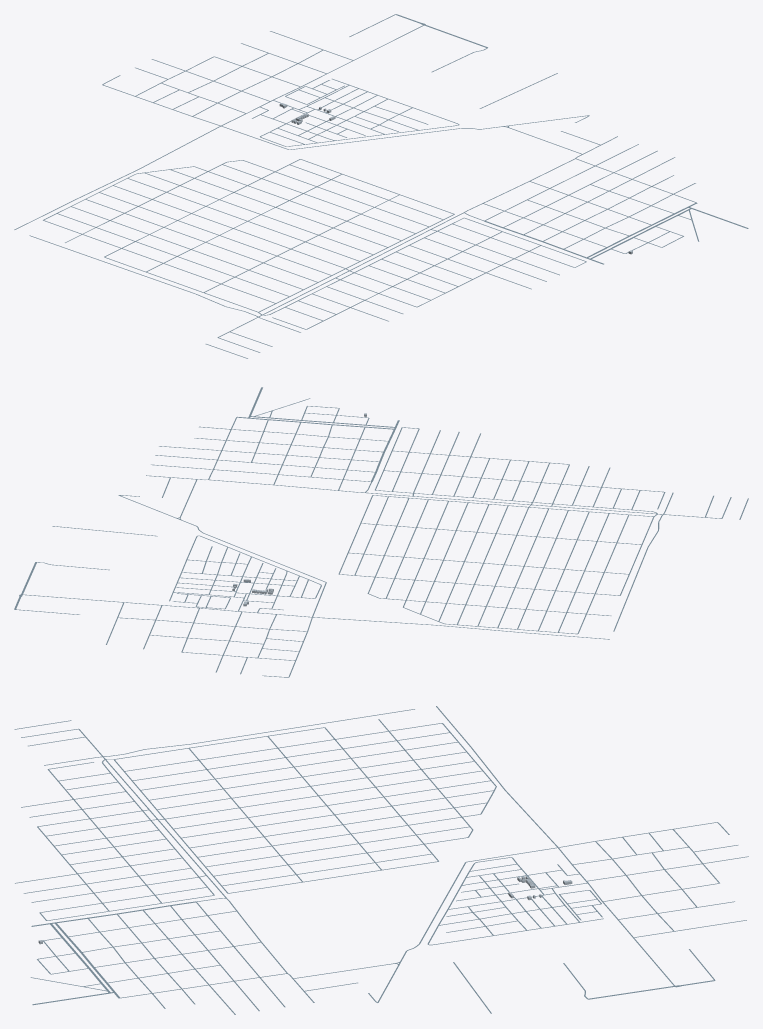
3 views of the same model, one above another, from view 1: azimuth 30°, elevation 25°; view 2: azimuth 150°, elevation 25°; view 3: azimuth 270°, elevation 25° (orthographic). The views are drawn at different scales.
Bounding box in the file's own units: 2134 × 8 × 2145.
